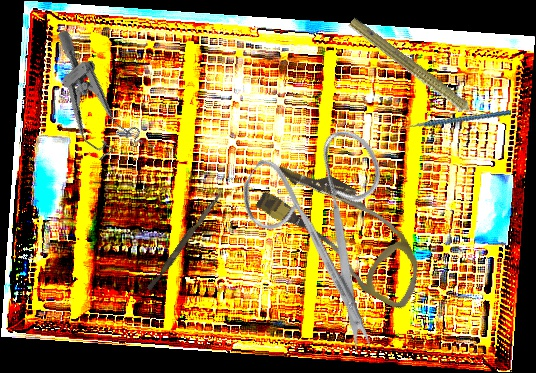Cannula: (244, 150, 444, 313)
Chopper: (394, 88, 512, 158)
Handpiece: (343, 14, 494, 135)
Iris Scissors: (201, 97, 464, 357)
Pusher: (146, 187, 224, 293)
Speculum: (20, 28, 154, 172)
